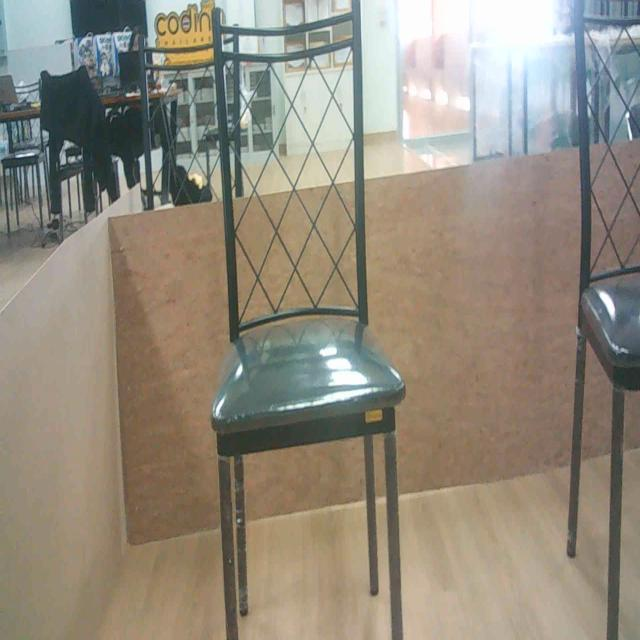emtpy: (193, 0, 408, 640)
